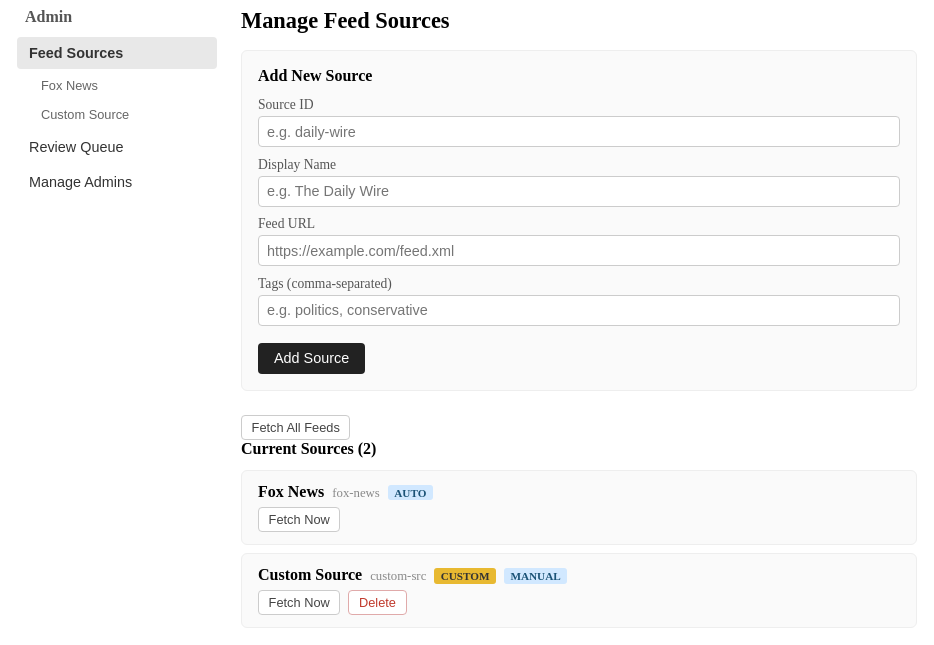
Test: AdminPanel › navigates to review queue
The image size is (934, 645).
Expected: the button "Feed Sources" is shown, top-left (17, 37), bottom-right (217, 69)
Step 1. Click the button "Review Queue" → [117, 147], box top-left (17, 131), bottom-right (217, 163)
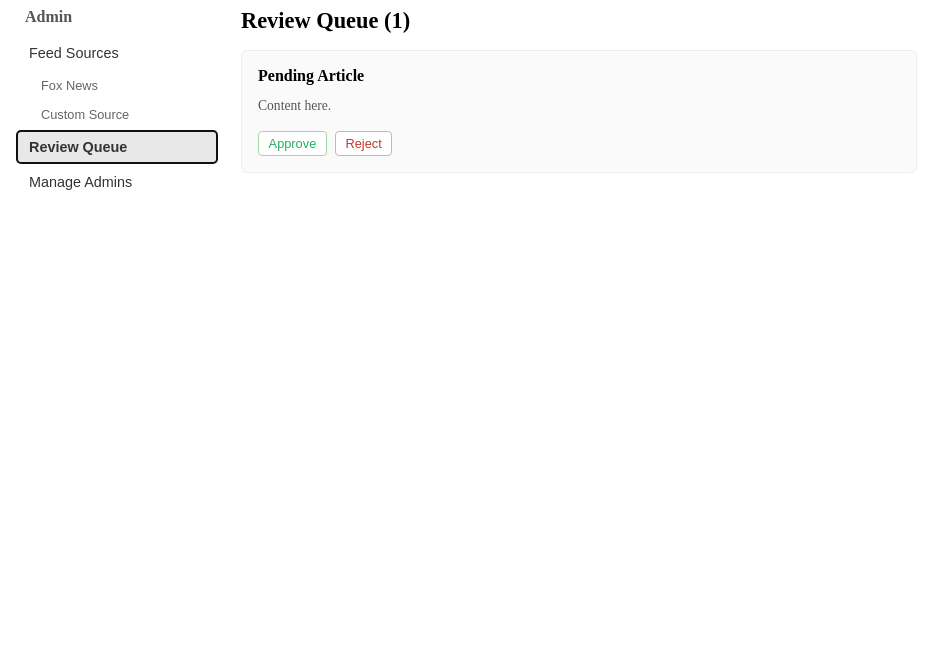
Now the heading "Pending Article" is shown, box top-left (258, 67), bottom-right (364, 84)
Now the button "Approve" is shown, box top-left (258, 131), bottom-right (327, 156)
Now the button "Reject" is shown, box top-left (335, 131), bottom-right (392, 156)
